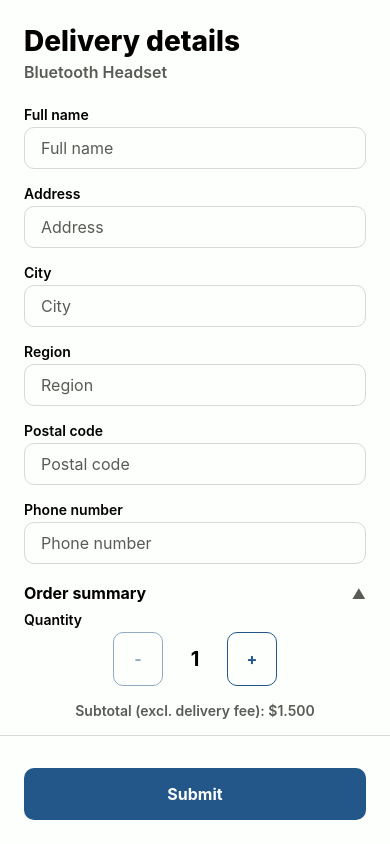
Test: DeliveryScreen › updates the subtotal when the quantity is incremented
Step 1. Click the element with test id "quantity-increment" → (252, 659), box [227,632,277,686]
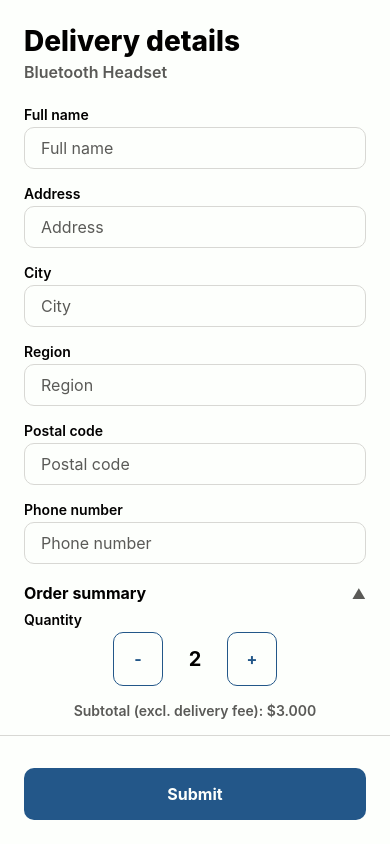
Result: the text "Subtotal (excl. delivery fee): $3.000" is shown at [74,702,316,719]
